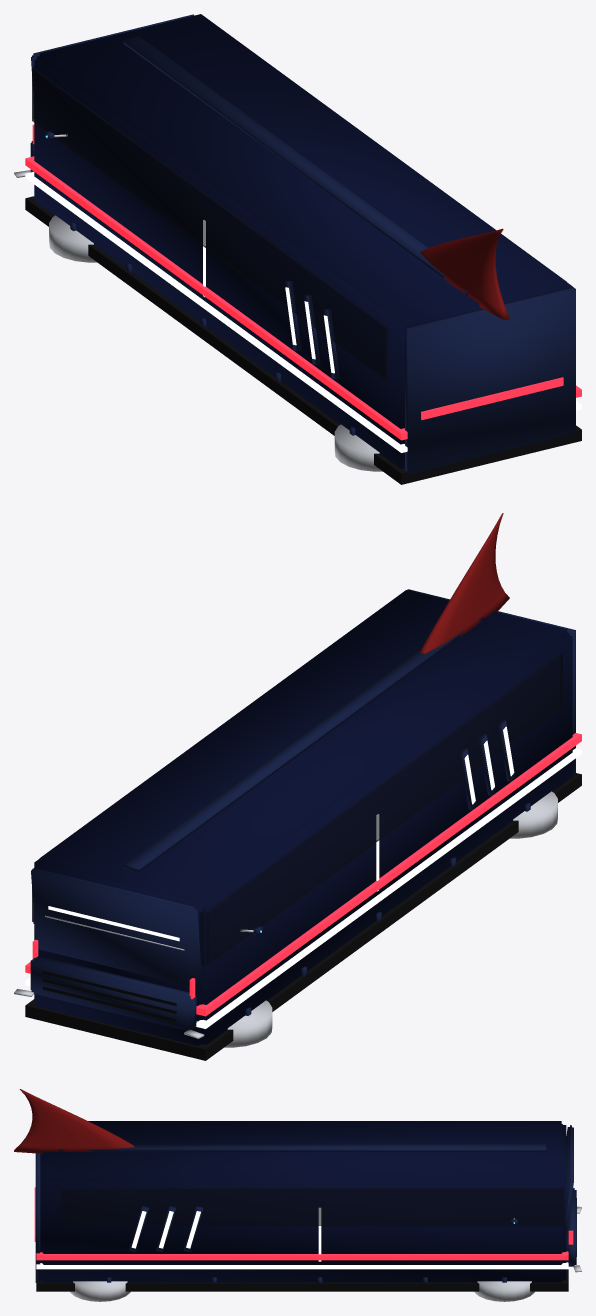
The model's file is bus-futurista.glb.
3 views of the same model, one above another, from view 1: azimuth 30°, elevation 25°; view 2: azimuth 150°, elevation 25°; view 3: azimuth 270°, elevation 25° (orthographic). The views are drawn at different scales.
Visible parts, largest first — view 1: Bus_Casco_Azul, Bus_Casco_Acento, Bus_Vidrio_Oscuro, Bus_Goma_Negra, Bus_Neon_Rojo, Bus_Neon_Blanco, Bus_Rojo_Aleta, Bus_Metal_Cromado; view 2: Bus_Casco_Azul, Bus_Casco_Acento, Bus_Vidrio_Oscuro, Bus_Goma_Negra, Bus_Neon_Blanco, Bus_Neon_Rojo, Bus_Rojo_Aleta, Bus_Metal_Cromado; view 3: Bus_Casco_Azul, Bus_Vidrio_Oscuro, Bus_Casco_Acento, Bus_Goma_Negra, Bus_Neon_Rojo, Bus_Rojo_Aleta, Bus_Neon_Blanco, Bus_Metal_Cromado.
Boxes of the visible parts, x1,y1,x2,y2 form: Bus_Casco_Azul: (34, 14, 572, 468); Bus_Casco_Acento: (30, 14, 575, 473); Bus_Vidrio_Oscuro: (32, 66, 388, 379); Bus_Goma_Negra: (25, 196, 581, 484); Bus_Neon_Rojo: (25, 124, 581, 440); Bus_Neon_Blanco: (25, 172, 581, 452); Bus_Rojo_Aleta: (420, 228, 509, 320); Bus_Metal_Cromado: (14, 134, 382, 471); Bus_Casco_Azul: (34, 590, 572, 1045); Bus_Casco_Acento: (30, 589, 575, 1030); Bus_Vidrio_Oscuro: (32, 653, 562, 966); Bus_Goma_Negra: (25, 773, 581, 1060); Bus_Neon_Blanco: (25, 726, 581, 1028); Bus_Neon_Rojo: (25, 733, 581, 1016); Bus_Rojo_Aleta: (420, 513, 509, 653); Bus_Metal_Cromado: (14, 791, 557, 1047); Bus_Casco_Azul: (40, 1121, 566, 1282); Bus_Vidrio_Oscuro: (60, 1186, 564, 1225); Bus_Casco_Acento: (35, 1125, 576, 1283); Bus_Goma_Negra: (36, 1198, 576, 1291); Bus_Neon_Rojo: (34, 1187, 573, 1260); Bus_Rojo_Aleta: (14, 1089, 134, 1153); Bus_Neon_Blanco: (36, 1207, 568, 1269); Bus_Metal_Cromado: (70, 1206, 581, 1301).
Bounding box in the file's own units: 4.01 × 4.56 × 12.93.
